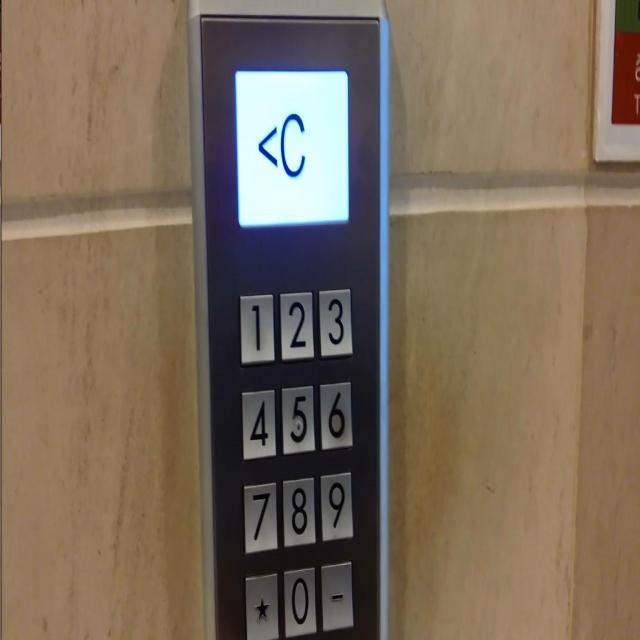-: (320, 561, 357, 632)
0: (281, 568, 319, 639)
1: (239, 293, 276, 364)
2: (278, 289, 315, 361)
3: (317, 288, 355, 359)
4: (240, 388, 278, 460)
5: (280, 384, 317, 456)
6: (317, 379, 355, 451)
7: (242, 483, 279, 554)
8: (280, 477, 317, 548)
9: (318, 471, 355, 542)
led: (232, 63, 352, 229)
s: (243, 568, 281, 639)
